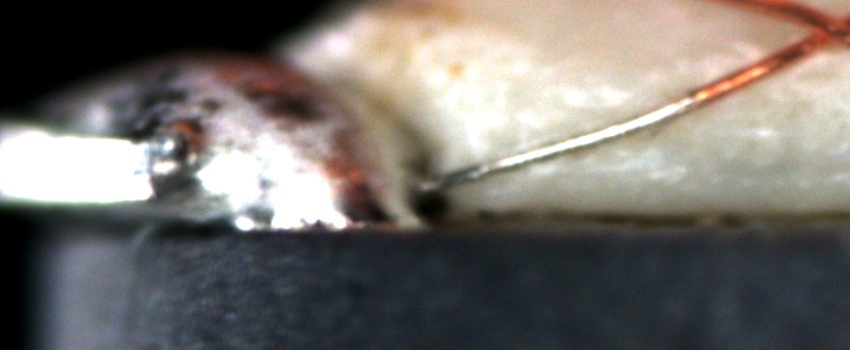TS: (419, 97, 693, 194)
